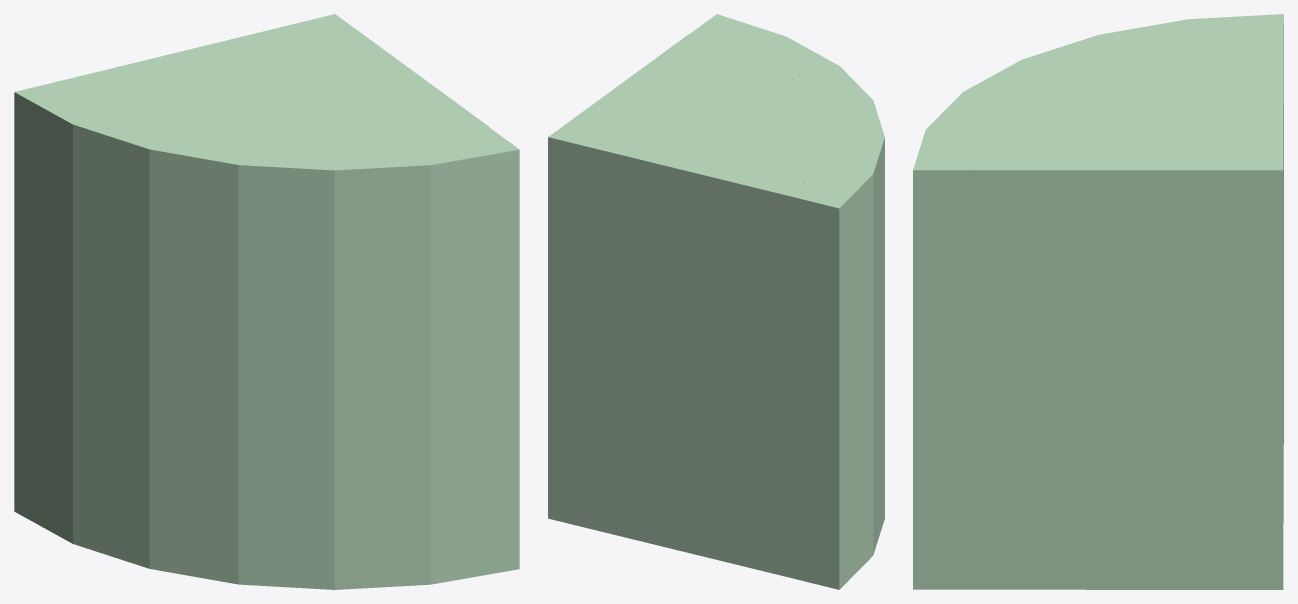
Rendered from GroundCircle_collider.fbx.
The picture shows the model from 3 angles, left to right: view 1: azimuth 30°, elevation 25°; view 2: azimuth 150°, elevation 25°; view 3: azimuth 270°, elevation 25°; orthographic projection. The views are drawn at different scales.
Parts seen in each view (by area): view 1: GroundCircle_collider; view 2: GroundCircle_collider; view 3: GroundCircle_collider.
Boxes of the visible parts, bbox=[...] form: GroundCircle_collider: bbox=[14, 14, 519, 589]; GroundCircle_collider: bbox=[548, 14, 884, 589]; GroundCircle_collider: bbox=[913, 14, 1283, 589].
Bounding box in the file's own units: 1.2 × 1.5 × 1.2.
